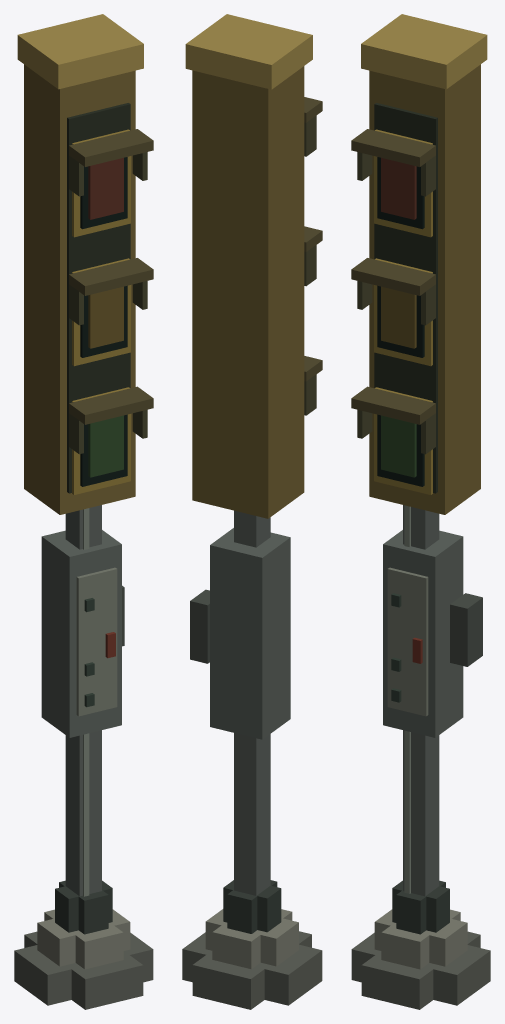
The model's file is CMU3DTrafficSignal.glb.
3 renders of one model, left to right at view 1: azimuth 30°, elevation 25°; view 2: azimuth 150°, elevation 25°; view 3: azimuth 330°, elevation 25°, orthographic.
Visible parts, largest first — view 1: yellow signal body, traffic control box, lower signal surround, top signal cap, octagonal foot (×3), steel mast, unlit colored lens (×3), signal visor top (×3), control hatch, raised plinth (×3), signal lens rim (×3), dark signal aperture (×3) (+3 smaller); view 2: yellow signal body, traffic control box, steel mast, top signal cap, octagonal foot (×3), raised plinth (×3), dark post root (×2), rear control module, signal visor side (×3), signal visor top (×3); view 3: yellow signal body, traffic control box, lower signal surround, top signal cap, octagonal foot (×3), steel mast, unlit colored lens (×3), signal visor top (×3), control hatch, raised plinth (×3), signal lens rim (×3), dark signal aperture (×3) (+4 smaller).
Boxes of the visible parts, x1=… form: yellow signal body: x1=24, y1=64, x2=135, y2=514; traffic control box: x1=41, y1=530, x2=121, y2=737; lower signal surround: x1=67, y1=103, x2=130, y2=493; top signal cap: x1=17, y1=14, x2=143, y2=89; octagonal foot (×3): x1=14, y1=931, x2=153, y2=1009; steel mast: x1=65, y1=505, x2=101, y2=896; unlit colored lens (×3): x1=88, y1=157, x2=123, y2=477; signal visor top (×3): x1=69, y1=129, x2=153, y2=424; control hatch: x1=76, y1=567, x2=117, y2=716; raised plinth (×3): x1=37, y1=909, x2=130, y2=969; signal lens rim (×3): x1=72, y1=129, x2=130, y2=494; dark signal aperture (×3): x1=80, y1=157, x2=127, y2=486; yellow signal body: x1=192, y1=66, x2=304, y2=518; traffic control box: x1=210, y1=528, x2=290, y2=739; steel mast: x1=234, y1=510, x2=270, y2=895; top signal cap: x1=185, y1=14, x2=312, y2=89; octagonal foot (×3): x1=182, y1=931, x2=322, y2=1009; raised plinth (×3): x1=205, y1=909, x2=298, y2=969; dark post root (×2): x1=227, y1=880, x2=281, y2=933; rear control module: x1=190, y1=589, x2=209, y2=663; signal visor side (×3): x1=304, y1=115, x2=316, y2=415; signal visor top (×3): x1=304, y1=97, x2=322, y2=381; yellow signal body: x1=369, y1=64, x2=480, y2=514; traffic control box: x1=383, y1=530, x2=463, y2=737; lower signal surround: x1=374, y1=103, x2=437, y2=493; top signal cap: x1=361, y1=14, x2=487, y2=89; octagonal foot (×3): x1=351, y1=931, x2=490, y2=1009; steel mast: x1=403, y1=505, x2=439, y2=896; unlit colored lens (×3): x1=381, y1=157, x2=416, y2=477; signal visor top (×3): x1=351, y1=129, x2=435, y2=424; control hatch: x1=387, y1=567, x2=428, y2=716; raised plinth (×3): x1=374, y1=909, x2=467, y2=969; signal lens rim (×3): x1=374, y1=129, x2=432, y2=494; dark signal aperture (×3): x1=377, y1=157, x2=424, y2=486.
Bounding box in the file's own units: 0.36 × 3.06 × 0.39.
